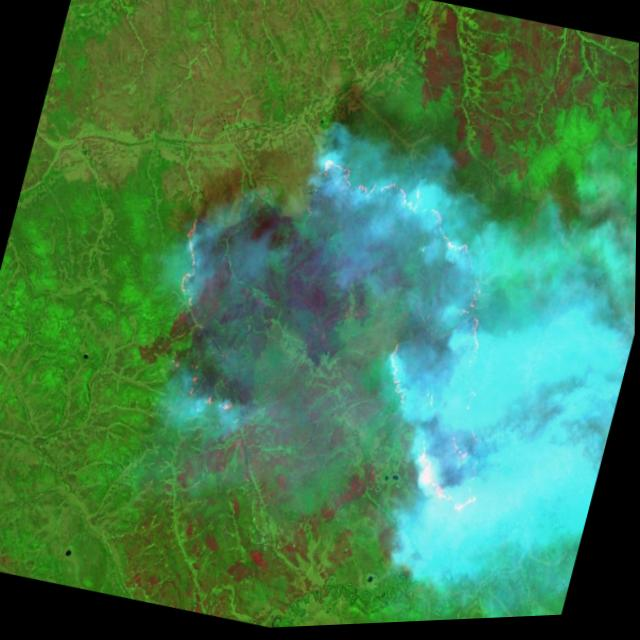fire: (126, 112, 564, 545)
